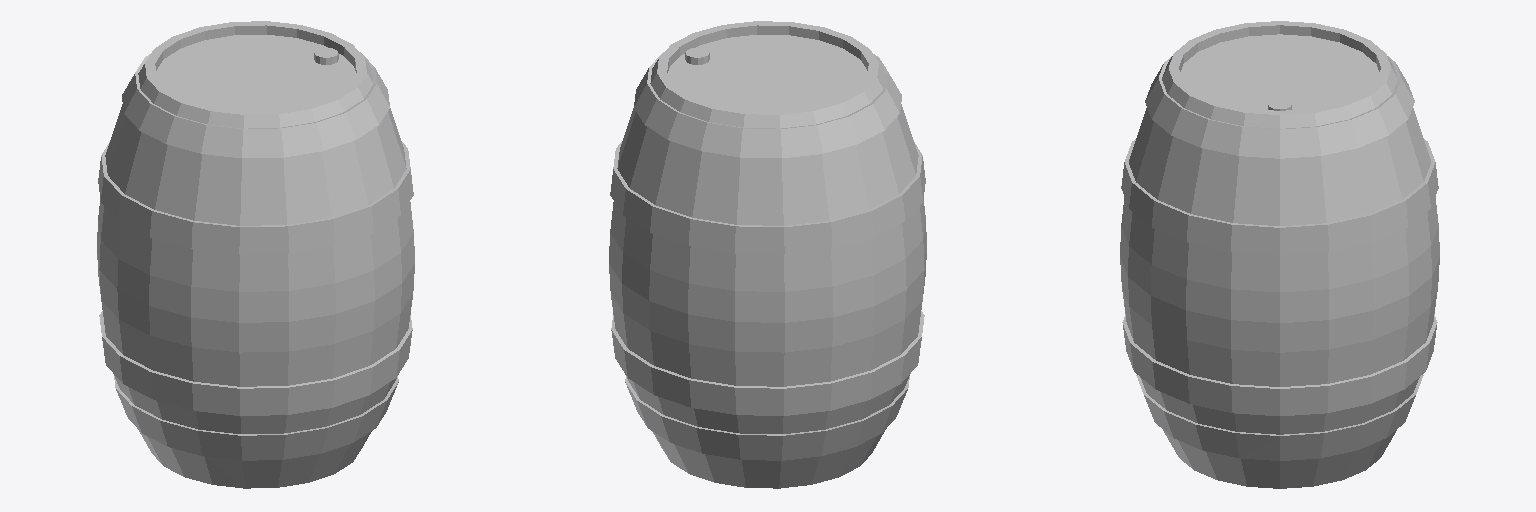
File: barrel.obj
The picture shows the model from 3 angles: view 1: azimuth 30°, elevation 25°; view 2: azimuth 150°, elevation 25°; view 3: azimuth 270°, elevation 25°; orthographic projection.
Parts seen in each view (by area): view 1: barrel; view 2: barrel; view 3: barrel.
Boxes of the visible parts, x1,y1,x2,y2 form: barrel: [97, 21, 414, 488]; barrel: [609, 21, 926, 488]; barrel: [1120, 21, 1439, 488].
Bounding box in the file's own units: 1.22 × 1.57 × 1.22.